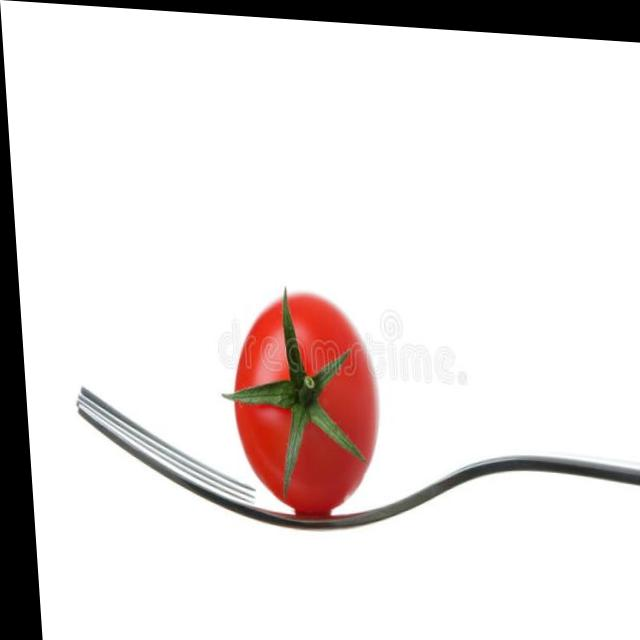kirmizi: (200, 286, 400, 522)
